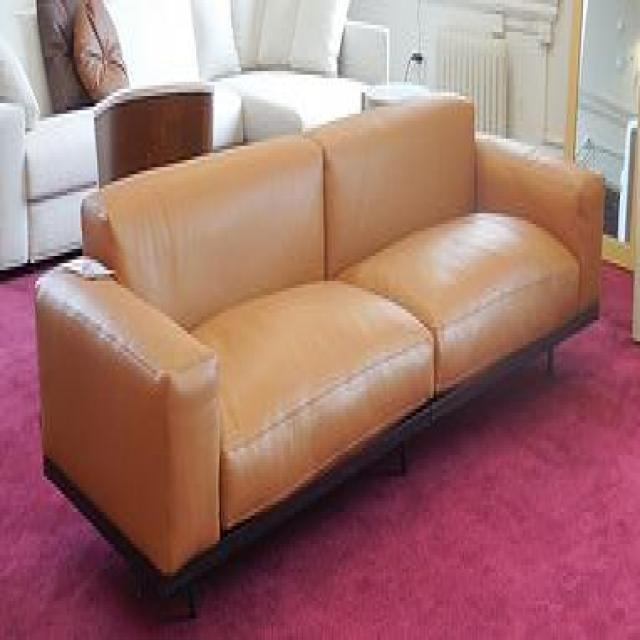sofa: (33, 91, 605, 616)
